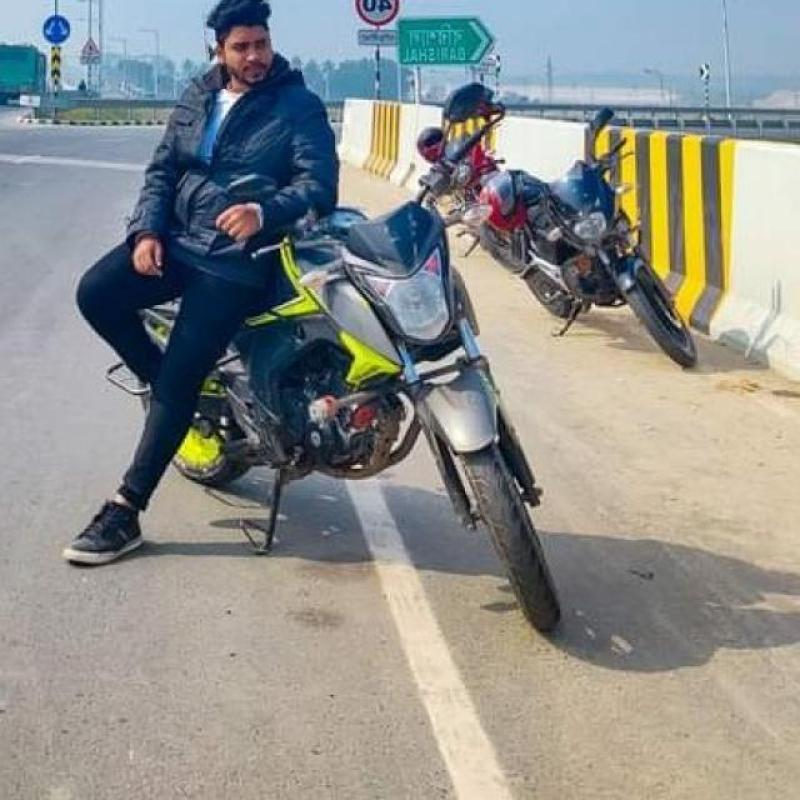nohelmet: (194, 1, 301, 88)
